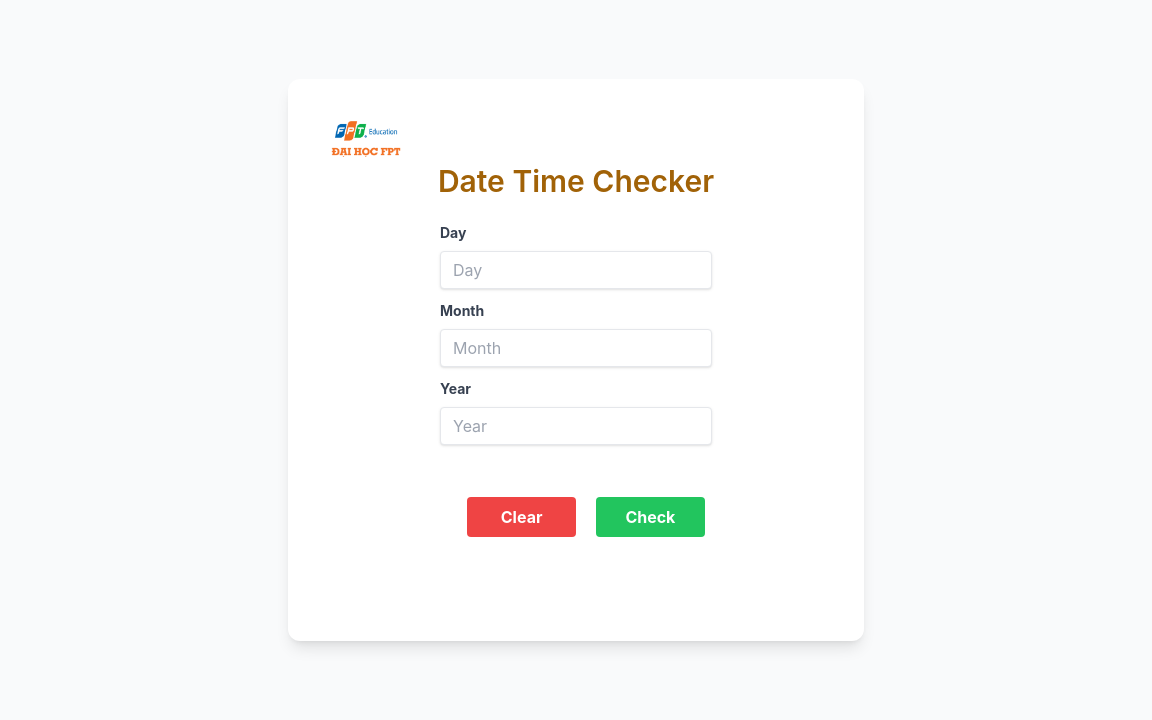
Test: Check function: › should show dialog: 20/2/2020 is a valid date
This screenshot has width=1152, height=720.
In the field with placeholder "Day": (576, 270) x1=440 y1=251 x2=712 y2=289, type "20"
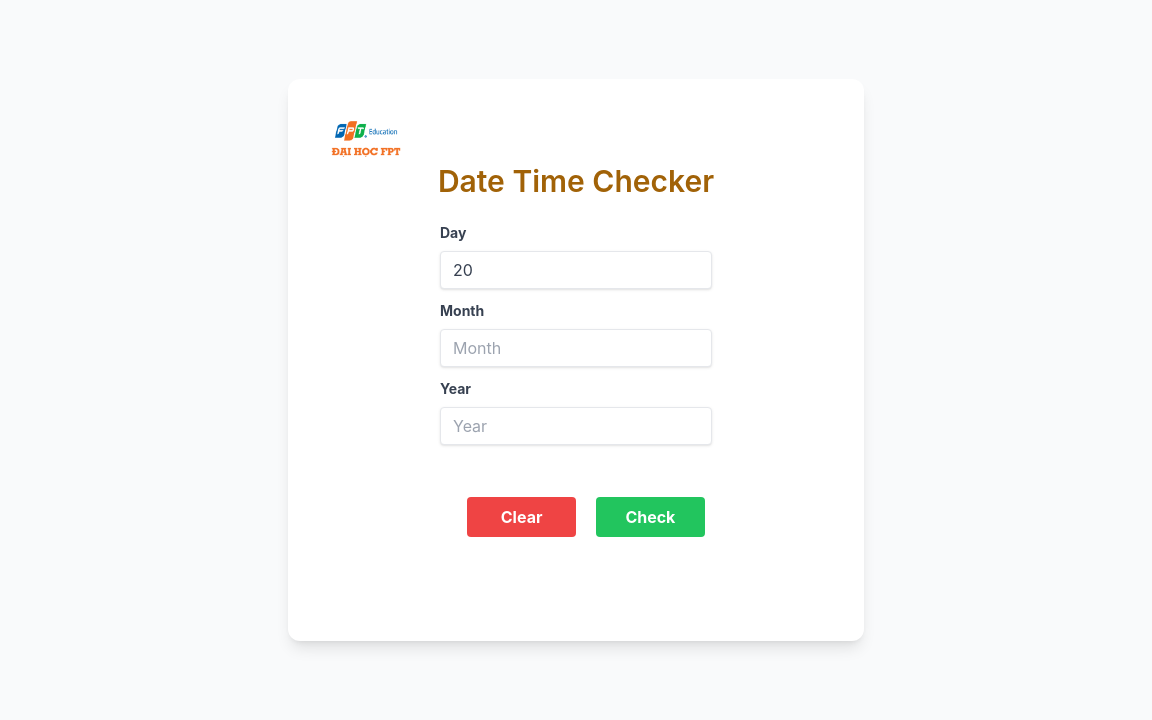
In the field with placeholder "Month": (576, 348) x1=440 y1=329 x2=712 y2=367, type "2"
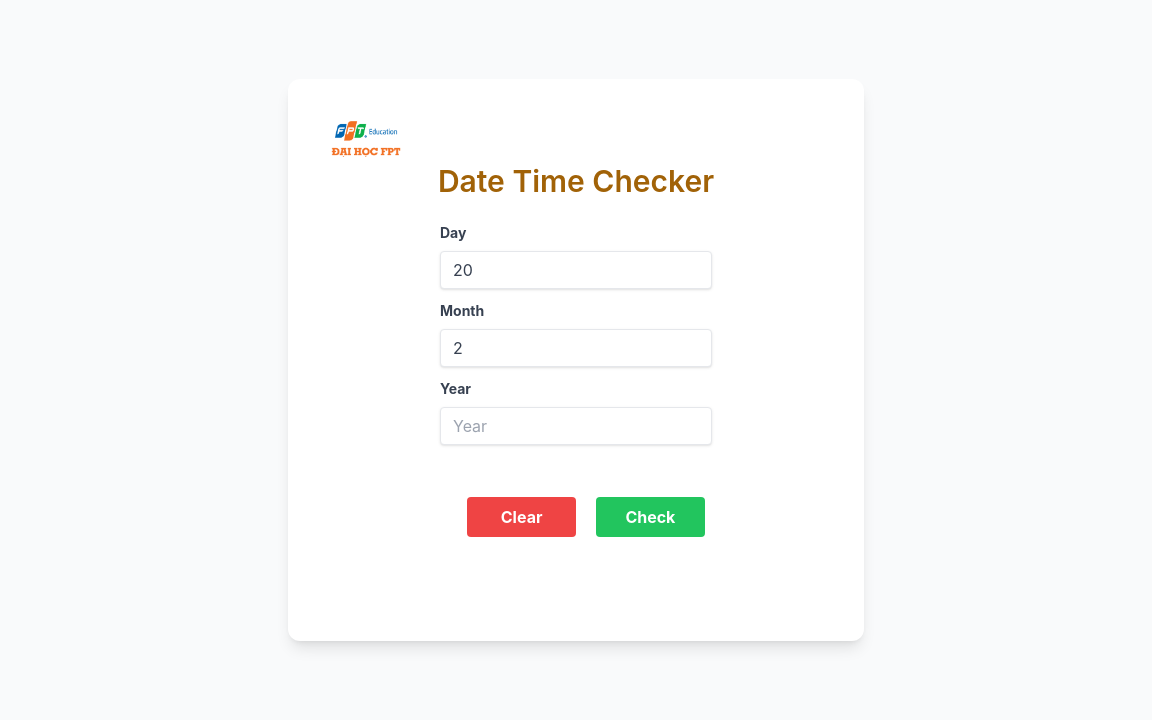
In the field with placeholder "Year": (576, 426) x1=440 y1=407 x2=712 y2=445, type "2020"
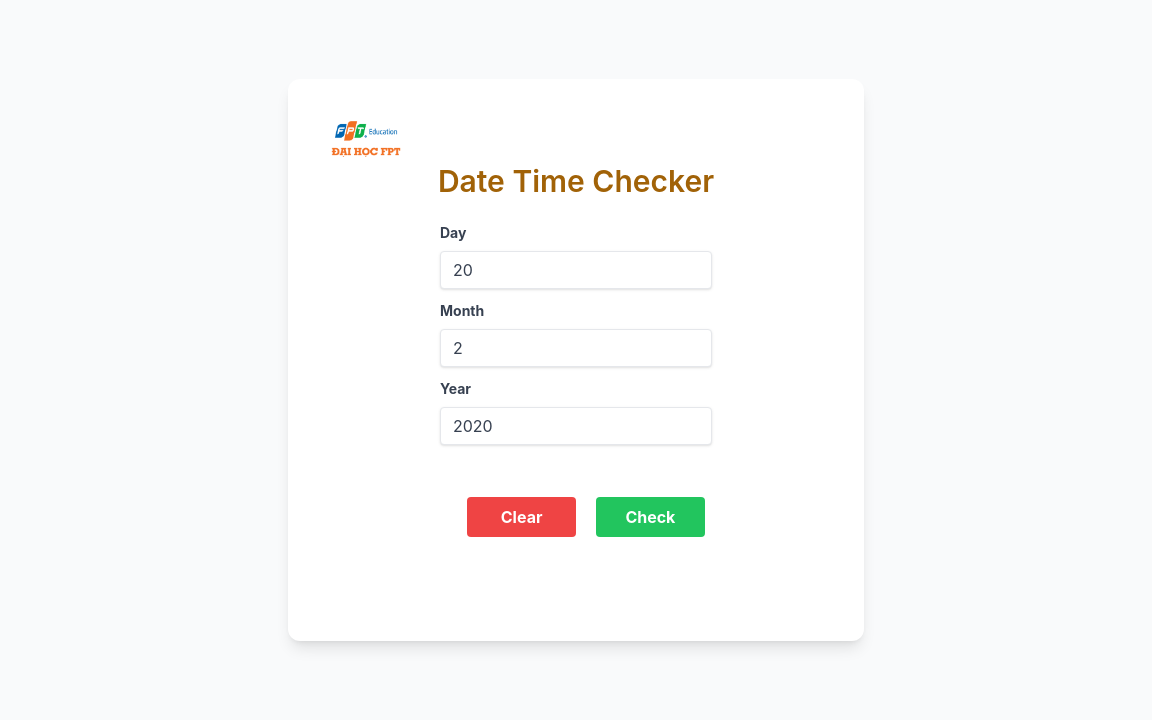
Click the button "Check": click(651, 517) x1=596 y1=497 x2=705 y2=537
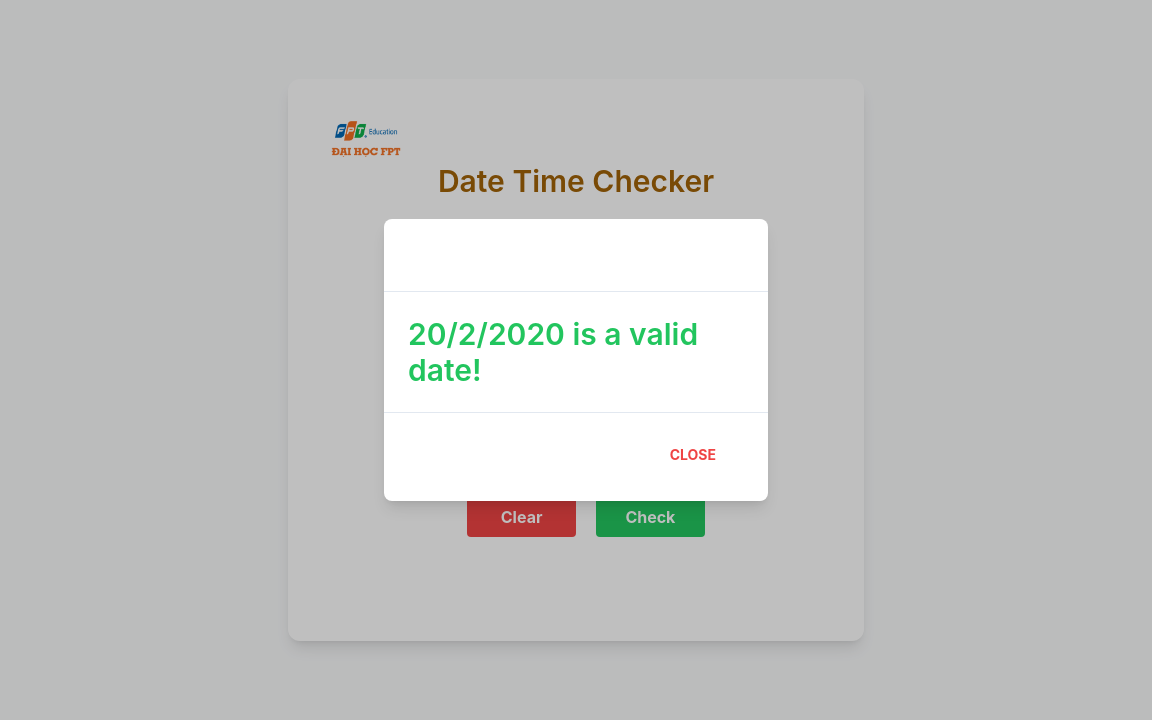
Expected: the element showing "20/2/2020 is a valid date!" is shown, x1=408 y1=316 x2=698 y2=388
